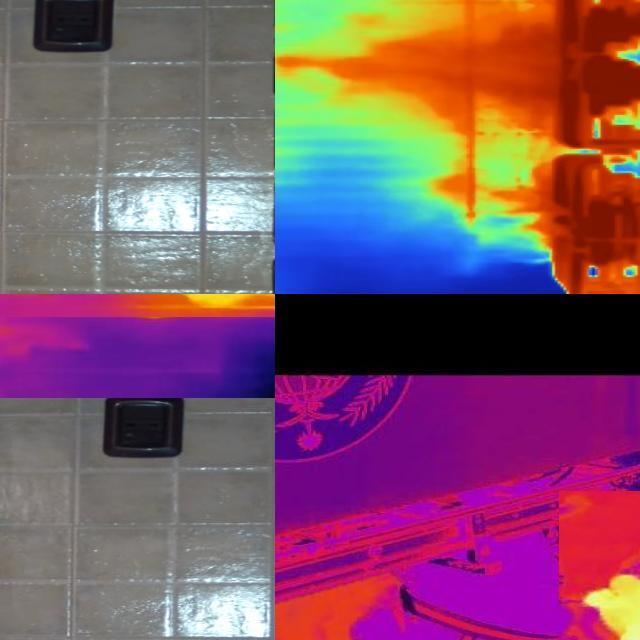fire: (527, 151, 640, 276), (542, 1, 640, 129), (586, 568, 640, 640)
